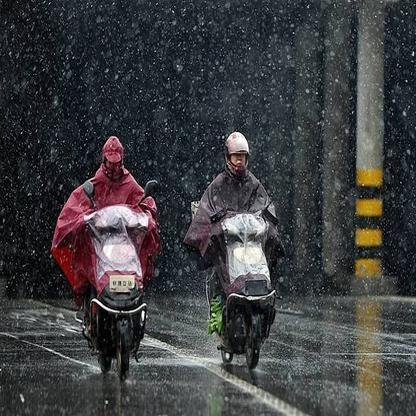target: (52, 135, 174, 380), (186, 130, 290, 375)
